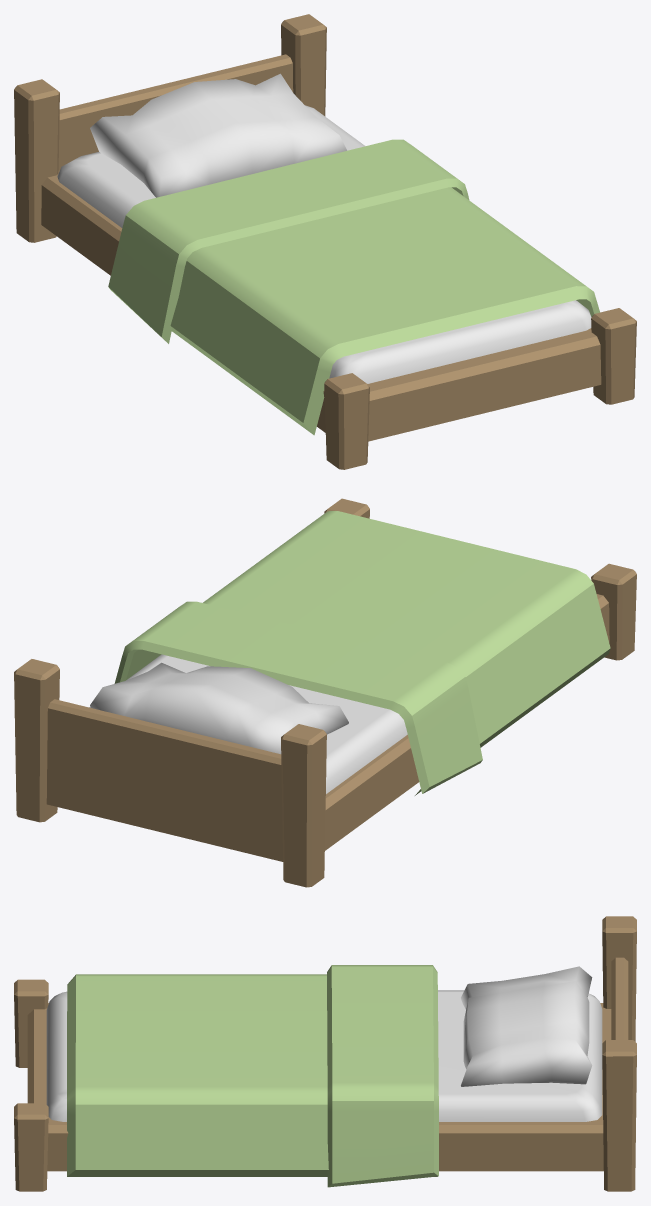
Rendered from bed_solo_01.fbx.
The picture shows the model from 3 angles, top to bottom: view 1: azimuth 30°, elevation 25°; view 2: azimuth 150°, elevation 25°; view 3: azimuth 270°, elevation 25°; orthographic projection. The views are drawn at different scales.
Parts seen in each view (by area): view 1: pCube167, pCube168, pCube155, pCube160, pCube169, pCube164, pCube161; view 2: pCube167, pCube161, pCube168, pCube169, pCube155, pCube164, pCube160; view 3: pCube167, pCube168, pCube155, pCube169, pCube164, pCube160, pCube161.
Part boxes in pixels (x1=…): pCube167: x1=170, y1=187, x2=599, y2=435; pCube168: x1=108, y1=139, x2=469, y2=343; pCube155: x1=90, y1=73, x2=346, y2=197; pCube160: x1=41, y1=170, x2=601, y2=441; pCube169: x1=14, y1=14, x2=636, y2=469; pCube164: x1=57, y1=105, x2=591, y2=383; pCube161: x1=58, y1=54, x2=293, y2=170; pCube167: x1=126, y1=511, x2=610, y2=795; pCube161: x1=46, y1=699, x2=282, y2=861; pCube168: x1=114, y1=601, x2=482, y2=793; pCube169: x1=14, y1=498, x2=636, y2=887; pCube155: x1=90, y1=662, x2=348, y2=754; pCube164: x1=89, y1=654, x2=407, y2=793; pCube160: x1=325, y1=594, x2=609, y2=850; pCube167: x1=67, y1=974, x2=437, y2=1176; pCube168: x1=327, y1=965, x2=438, y2=1187; pCube155: x1=461, y1=966, x2=592, y2=1086; pCube169: x1=14, y1=916, x2=636, y2=1191; pCube164: x1=46, y1=990, x2=602, y2=1121; pCube160: x1=27, y1=1003, x2=611, y2=1171; pCube161: x1=611, y1=957, x2=628, y2=1039.
Bounding box in the file's own units: 9.6 × 4.19 × 17.
